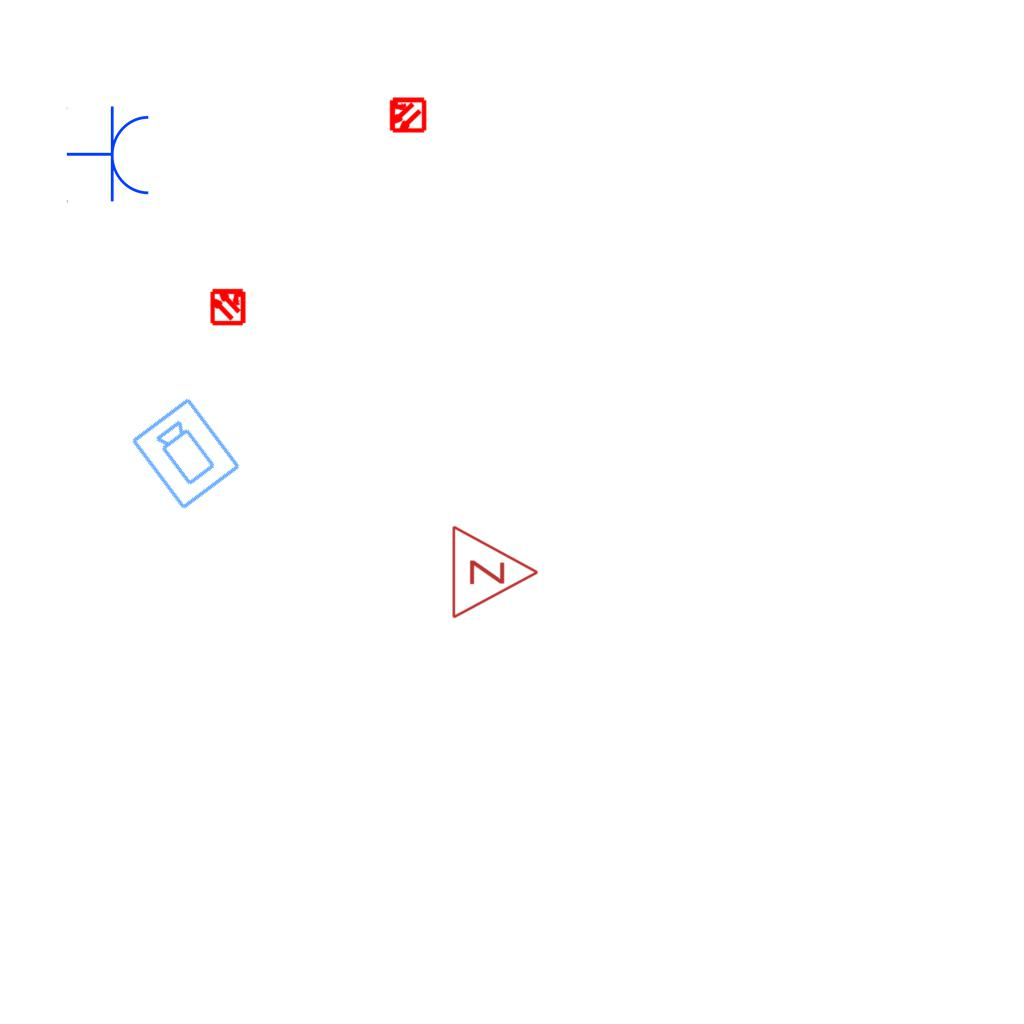KFO_Kamera_mit_Festobjektiv: (128, 393, 245, 514)
OT_Multisensormelder_(Kombination_RMO_WMD): (379, 87, 435, 143), (200, 278, 256, 334)
Schukosteckdose_einfach: (66, 105, 153, 205)
Zimmersignalleuchte: (445, 522, 545, 620)
